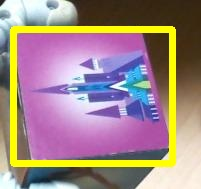Castle4: (13, 29, 172, 163)
